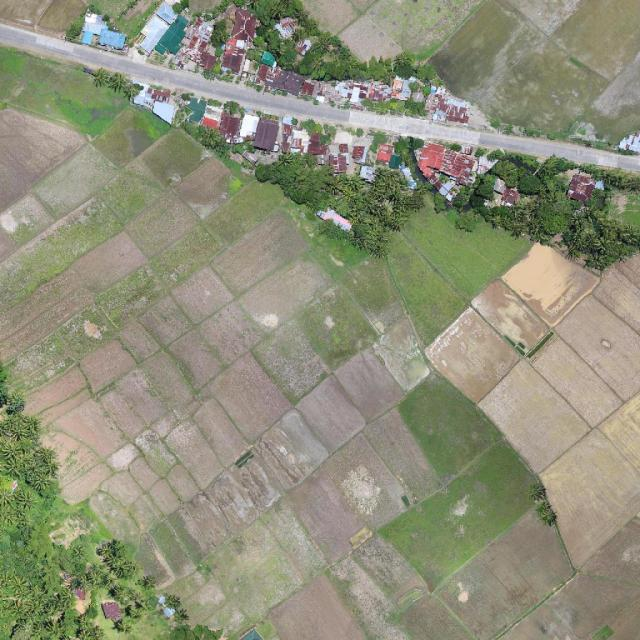building: (252, 91, 441, 263), (404, 116, 497, 209), (171, 82, 280, 157), (86, 55, 185, 125), (78, 8, 131, 53), (493, 169, 545, 211)
greenland: (0, 365, 220, 640)
